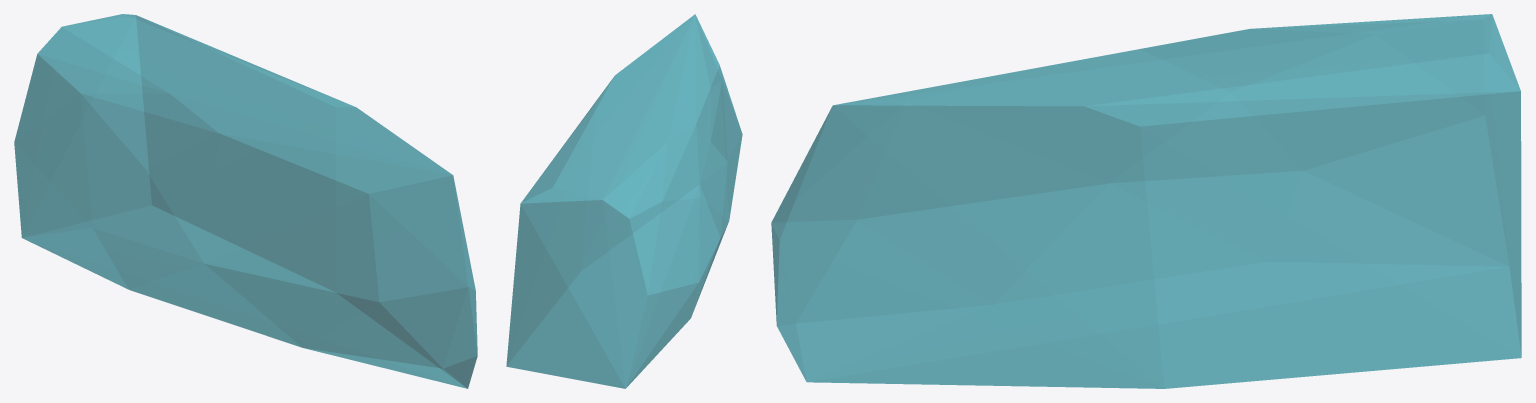
The picture shows the model from 3 angles, left to right: view 1: azimuth 30°, elevation 25°; view 2: azimuth 150°, elevation 25°; view 3: azimuth 270°, elevation 25°; orthographic projection. The views are drawn at different scales.
Visible parts, largest first — view 1: Shape_IndexedFaceSet.031_Shape_IndexedFaceSet.18184; view 2: Shape_IndexedFaceSet.031_Shape_IndexedFaceSet.18184; view 3: Shape_IndexedFaceSet.031_Shape_IndexedFaceSet.18184.
Part boxes in pixels (left/top/right/bottom): Shape_IndexedFaceSet.031_Shape_IndexedFaceSet.18184: left=14, top=14, right=477, bottom=388; Shape_IndexedFaceSet.031_Shape_IndexedFaceSet.18184: left=506, top=14, right=742, bottom=388; Shape_IndexedFaceSet.031_Shape_IndexedFaceSet.18184: left=771, top=14, right=1521, bottom=388.
Size of the model in its own units: 0.1864 by 0.1883 by 0.4592.
